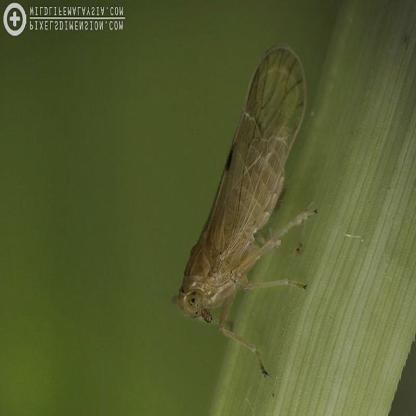brown-planthopper: (172, 40, 330, 381)
